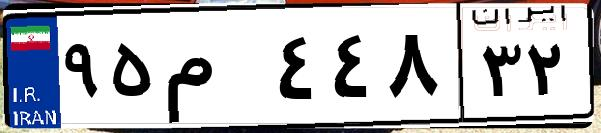2: (525, 38, 570, 115)
3: (475, 38, 525, 113)
4: (270, 28, 330, 110), (330, 28, 385, 110)
5: (110, 28, 158, 98)
8: (385, 28, 445, 110)
9: (57, 26, 110, 100)
م: (158, 20, 270, 120)
